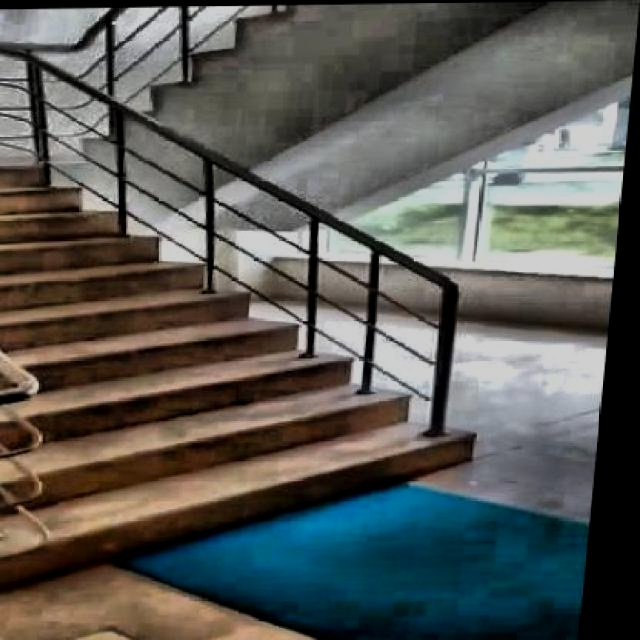stair: (1, 135, 510, 585)
